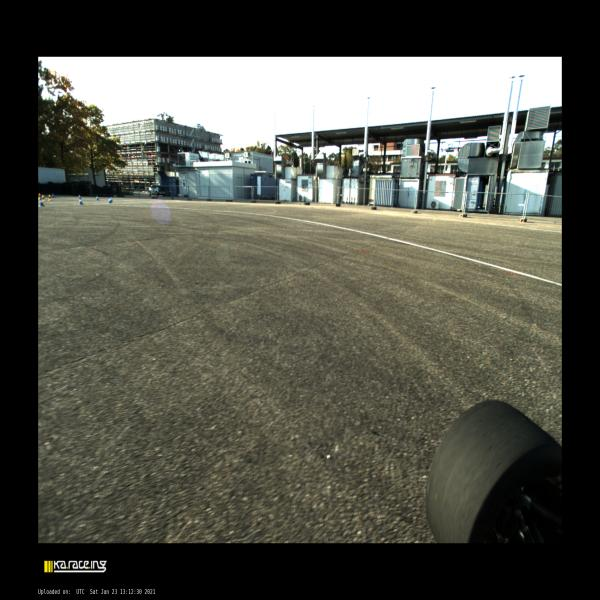blue_cone: (40, 198, 45, 206), (108, 197, 112, 203), (80, 198, 83, 204), (110, 196, 113, 202), (96, 196, 99, 200), (79, 194, 81, 199), (53, 193, 54, 197)
yellow_cone: (48, 194, 52, 201), (42, 195, 46, 201), (38, 193, 40, 199)
